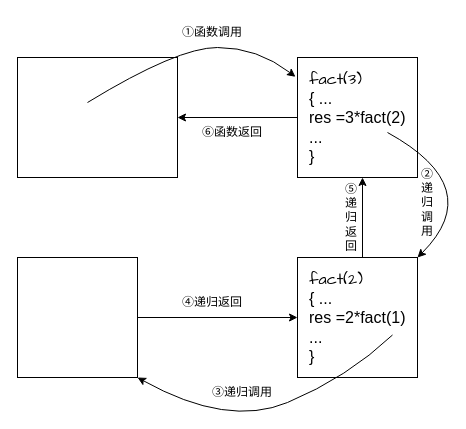
This 466x429 diagram has some shape labels left out. Here are the shapes that lost their labels. From the top down, the box of each, then its label:
(16, 56, 178, 178): void main() { ... printf("%f", fact(3)); ... }
(16, 256, 138, 378): fact(1) { if(n==1) res =1; return res; }
